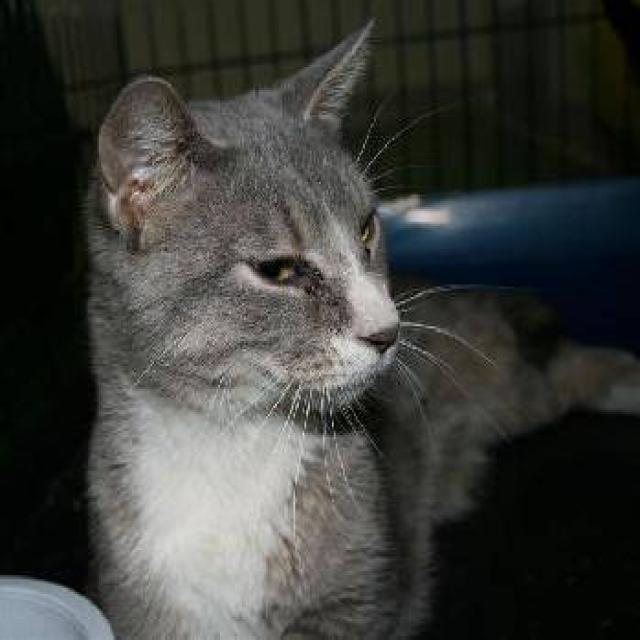cat: (79, 15, 638, 638)
